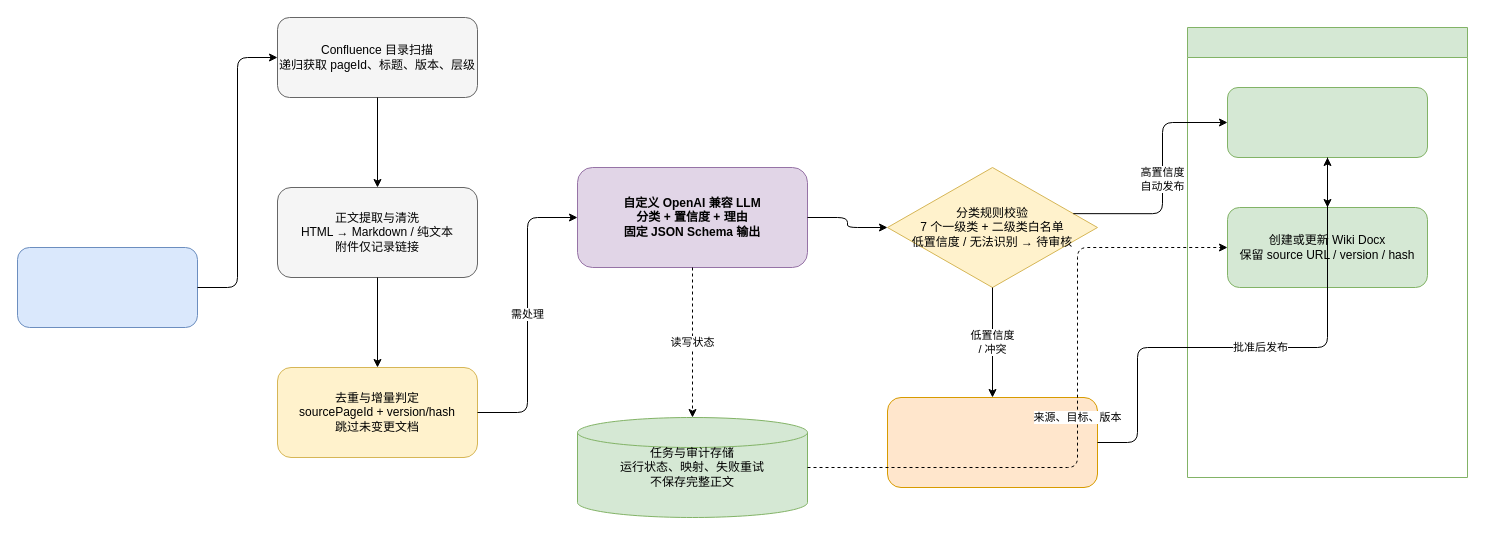
This 1485x535 diagram has some shape labels left out. Here are the shapes that lost their labels. From the top down, the box of each, then its label:
(1226, 86, 1428, 158): 目录 Token 映射 分类 → parent_node_token
(1186, 26, 1468, 478): 飞书知识库 已建好的一级 / 二级目录
(16, 246, 198, 328): 平台新入口 配置来源、模型与发布策略
(886, 396, 1098, 488): 人工审核队列 可改分类、排除、编辑标题 批量批准
